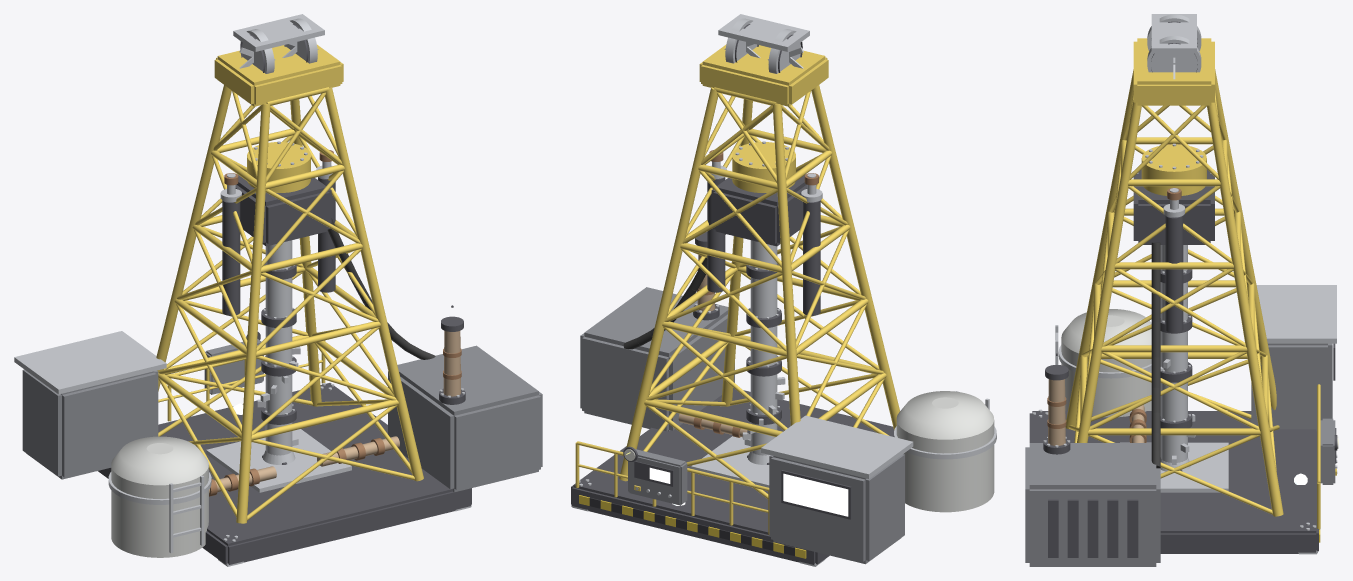
Rendered from drill_2.fbx.
3 views of the same model, side by side, from view 1: azimuth 30°, elevation 25°; view 2: azimuth 150°, elevation 25°; view 3: azimuth 270°, elevation 25° (orthographic).
Parts seen in each view (by area): view 1: drill_2, Drill_Y_Stem, Spin_X_Sheave0, Spin_X_Sheave1; view 2: drill_2, Drill_Y_Stem, Spin_X_Sheave0, Spin_X_Sheave1; view 3: drill_2, Drill_Y_Stem, Spin_X_Sheave1, Spin_X_Sheave0.
Boxes of the visible parts, x1,y1,x2,y2 form: drill_2: (14, 14, 542, 566); Drill_Y_Stem: (257, 240, 300, 464); Spin_X_Sheave0: (239, 29, 275, 73); Spin_X_Sheave1: (282, 18, 318, 63); drill_2: (571, 14, 996, 566); Drill_Y_Stem: (742, 240, 785, 464); Spin_X_Sheave0: (768, 29, 803, 73); Spin_X_Sheave1: (724, 18, 760, 63); drill_2: (1025, 14, 1338, 566); Drill_Y_Stem: (1160, 245, 1195, 471); Spin_X_Sheave1: (1147, 36, 1201, 79); Spin_X_Sheave0: (1147, 14, 1201, 50).
Bounding box in the file's own units: 5.07 × 5.7 × 3.47.
